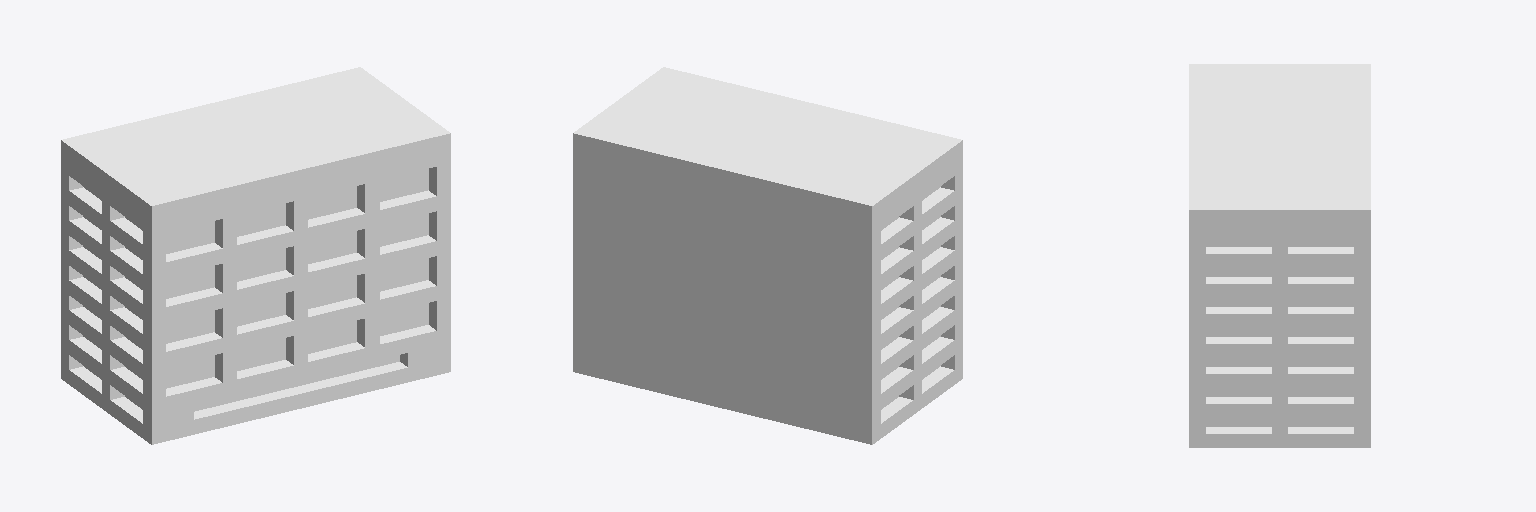
The model's file is ac_window.obj.
3 views of the same model, side by side, from view 1: azimuth 30°, elevation 25°; view 2: azimuth 150°, elevation 25°; view 3: azimuth 270°, elevation 25° (orthographic).
Visible parts, largest first — view 1: object 1; view 2: object 1; view 3: object 1.
Part boxes in pixels (left/top/right/bottom): object 1: left=61, top=67, right=450, bottom=444; object 1: left=573, top=67, right=962, bottom=444; object 1: left=1189, top=64, right=1370, bottom=447.
Bounding box in the file's own units: 2.1 × 1.6 × 1.1.